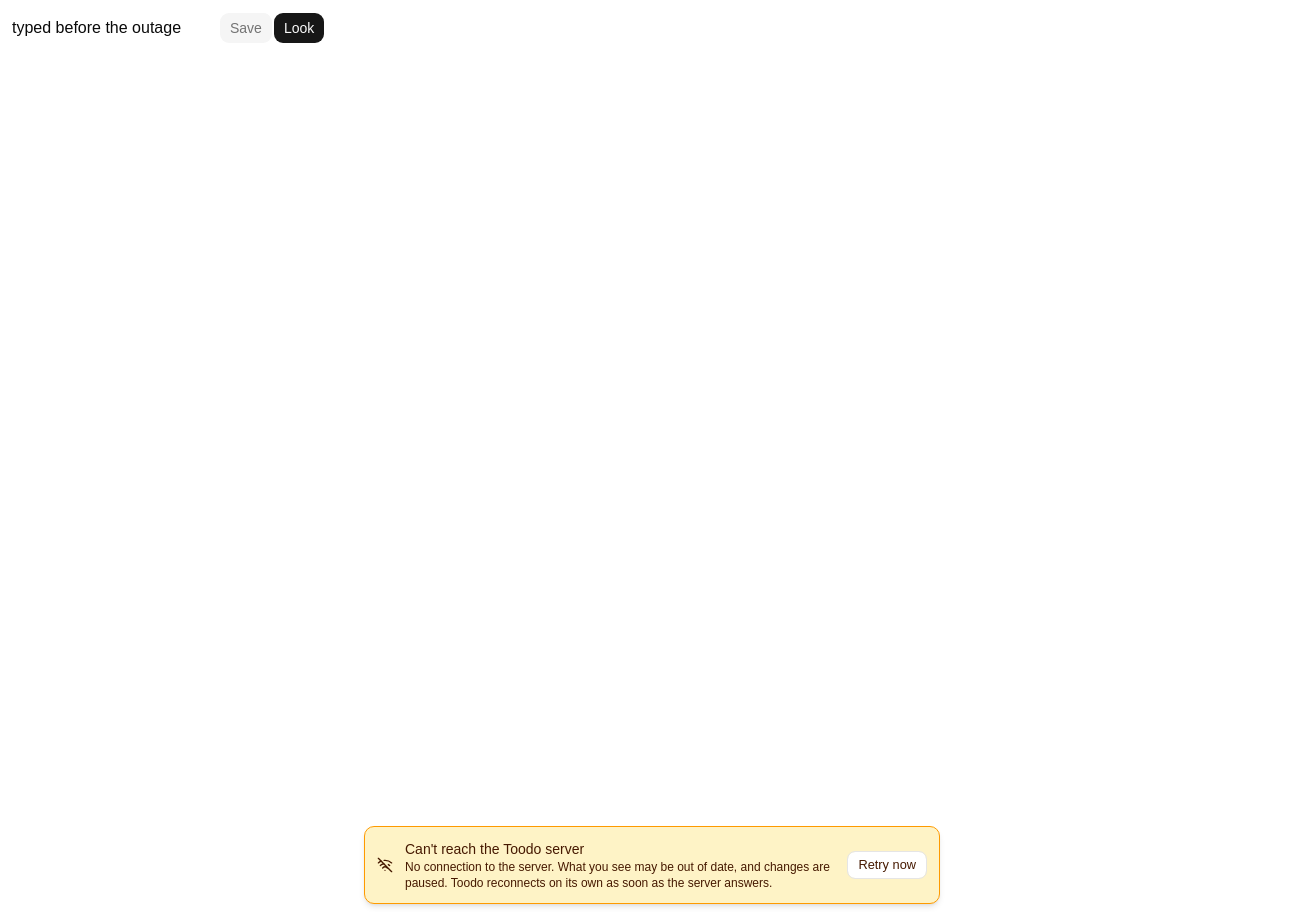
Test case: ConnectionGate › warns while the server is unreachable, pauses data changes, and clears once it answers
Expected: the message shows "Can't reach the Toodo server", [405,841,584,857]
Expected: the button "Save" is disabled, [219,12,273,44]
Click the button "Retry now": {"x": 887, "y": 865} [847,851,927,879]
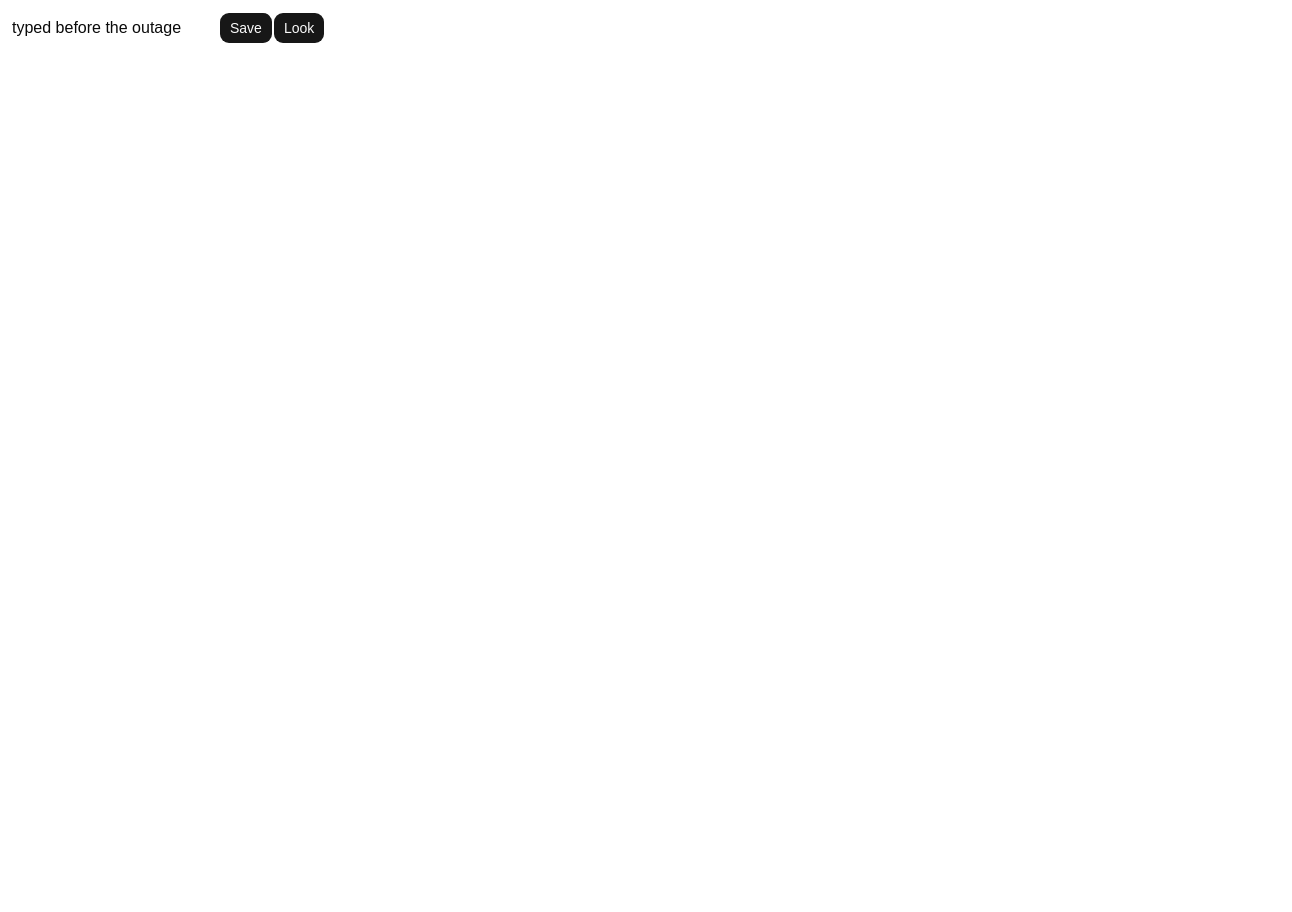
Expected: the field named "Draft" holds "typed before the outage", [12,16,219,40]
Expected: the message is gone
Expected: the button "Save" is enabled, [219,12,273,44]
